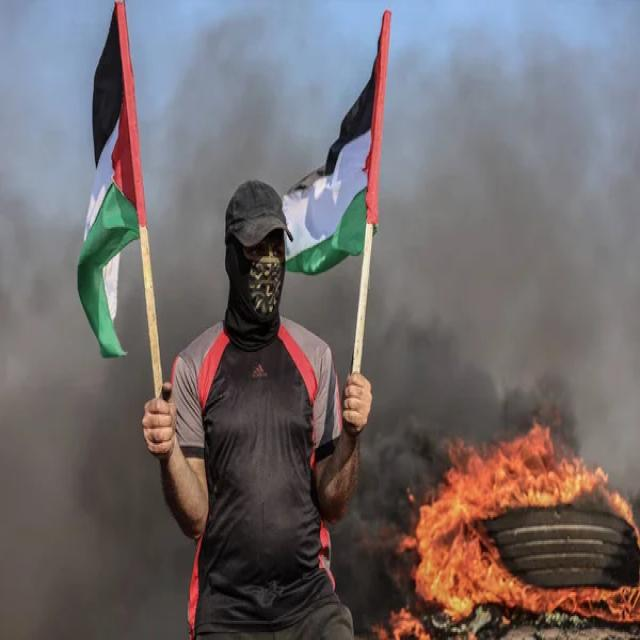fire: (411, 422, 640, 623), (390, 605, 428, 640)
